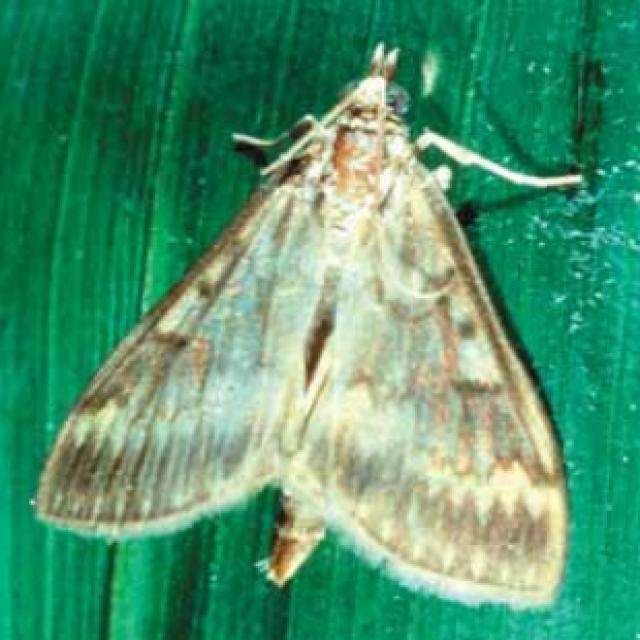cornborer-Adult-: (37, 31, 580, 596)
